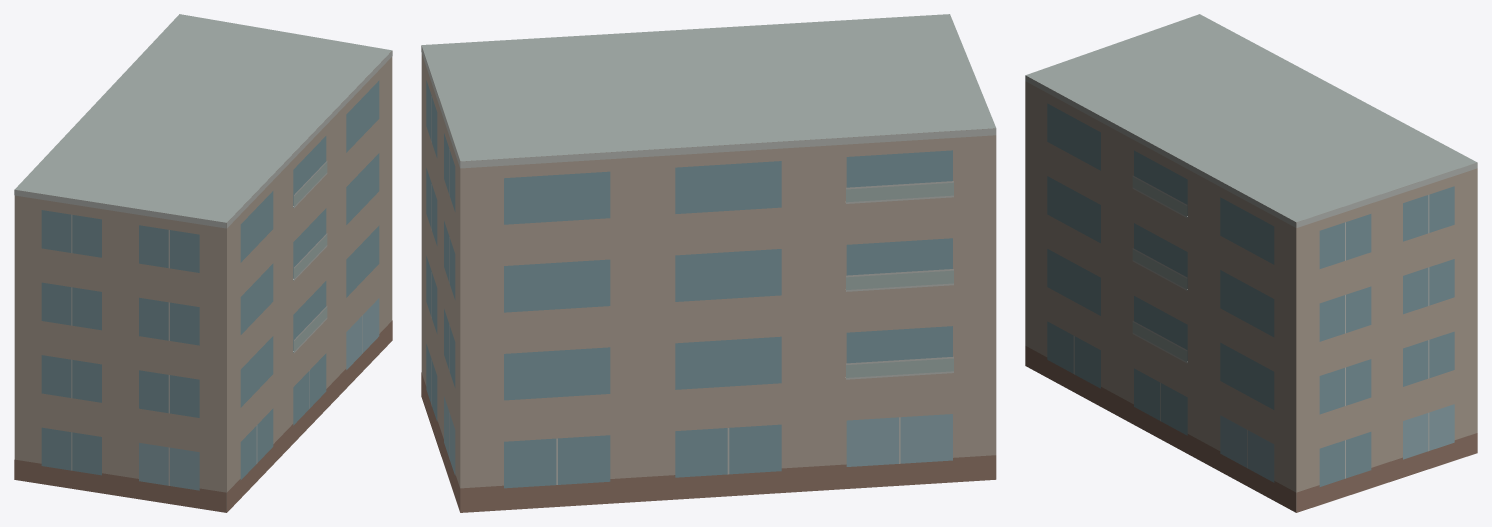
The model's file is survey-upis-32972361.glb.
3 views of the same model, side by side, from view 1: azimuth 30°, elevation 25°; view 2: azimuth 150°, elevation 25°; view 3: azimuth 270°, elevation 25° (orthographic). The views are drawn at different scales.
Visible parts, largest first — view 1: survey-upis-32972361.tmp; view 2: survey-upis-32972361.tmp; view 3: survey-upis-32972361.tmp.
Part boxes in pixels (x1,y1,x2,y2): survey-upis-32972361.tmp: (14,14,392,512); survey-upis-32972361.tmp: (421,14,996,512); survey-upis-32972361.tmp: (1025,14,1477,512).
Bounding box in the file's own units: 18.77 × 12.2 × 17.22.
